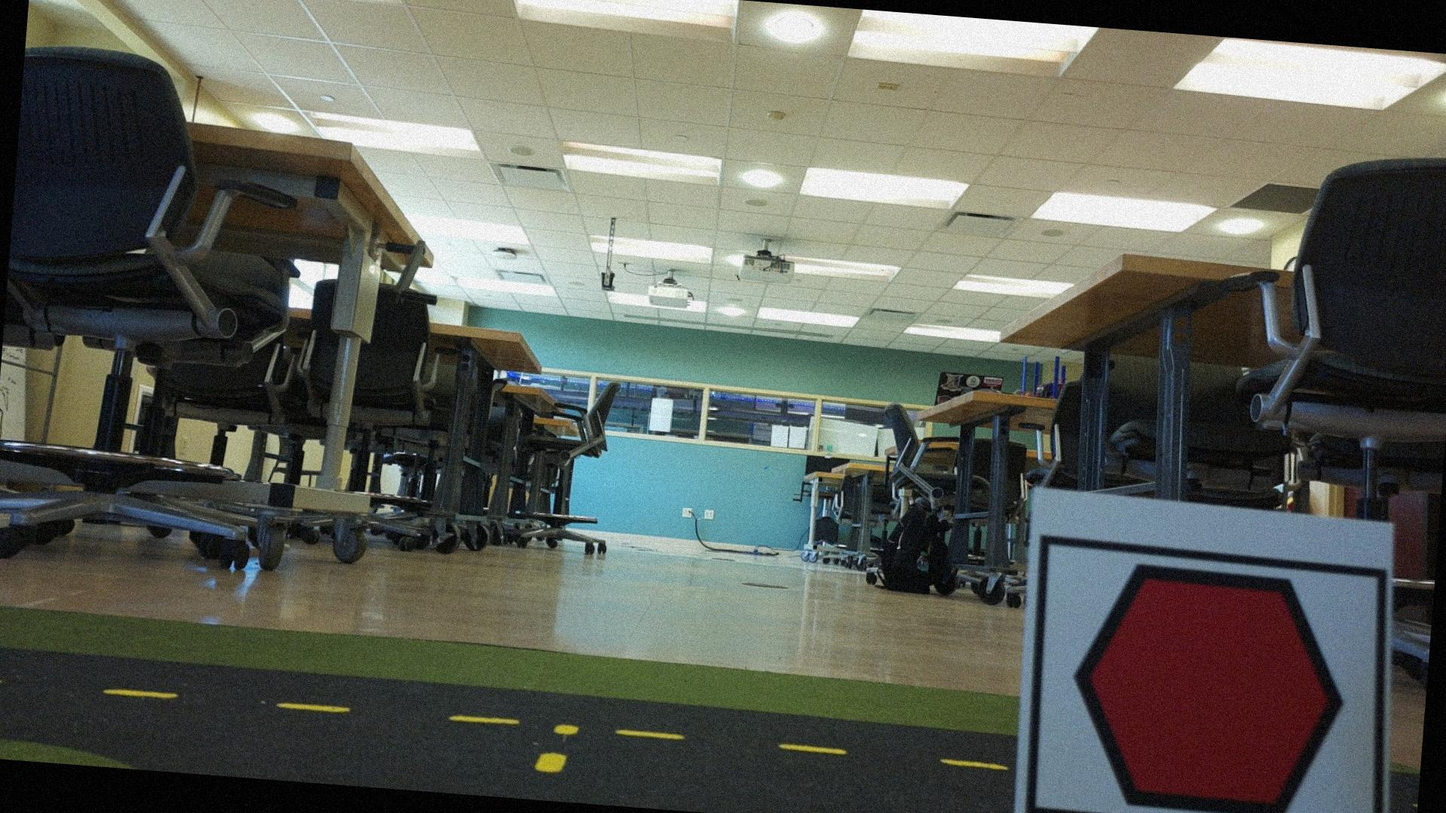stop: (1046, 551, 1371, 812)
yellowline: (0, 679, 1003, 772), (532, 718, 579, 778)
